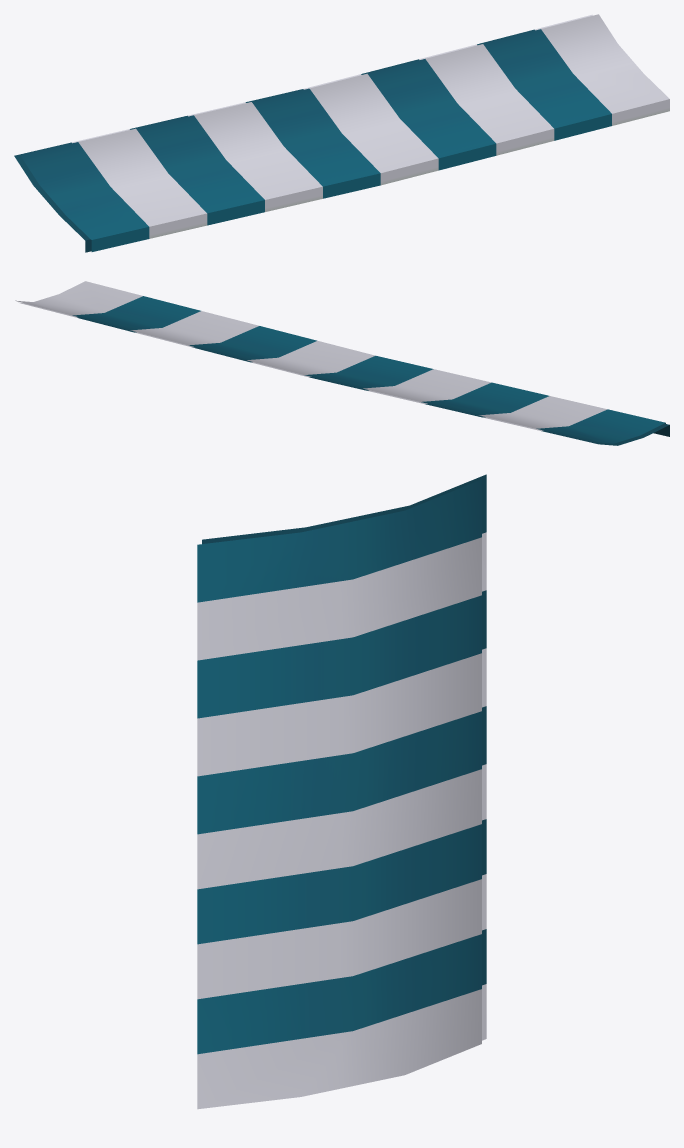
The model's file is Awning_02.FBX.
3 renders of one model, top to bottom at view 1: azimuth 30°, elevation 25°; view 2: azimuth 150°, elevation 25°; view 3: azimuth 270°, elevation 25°, orthographic. The views are drawn at different scales.
Parts seen in each view (by area): view 1: Awning_02; view 2: Awning_02; view 3: Awning_02.
Boxes of the visible parts, <box> form: Awning_02: <box>14,14,669,252</box>; Awning_02: <box>15,281,669,445</box>; Awning_02: <box>197,474,486,1109</box>.
Size of the model in its own units: 12.76 by 2.74 by 1.01.
